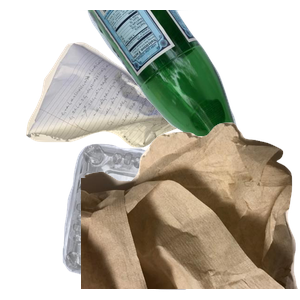glass: (75, 10, 300, 190)
paper: (23, 40, 223, 180)
plastic: (60, 141, 263, 300)
trash: (81, 120, 300, 300)
